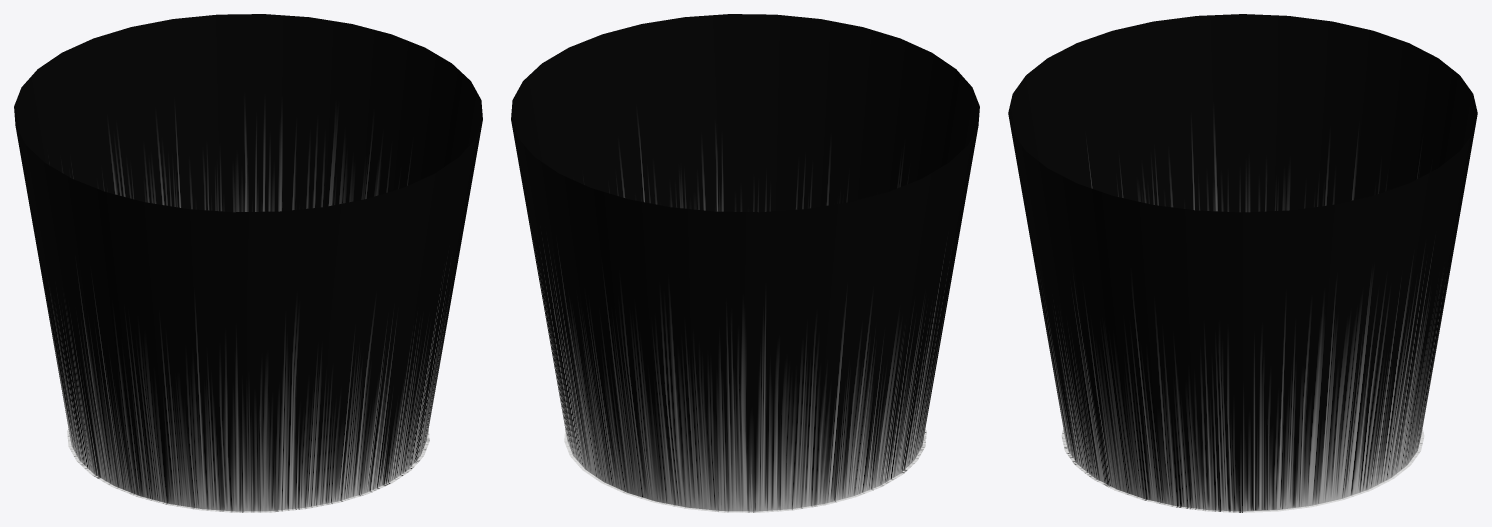
File: Wave.fbx
3 views of the same model, side by side, from view 1: azimuth 30°, elevation 25°; view 2: azimuth 150°, elevation 25°; view 3: azimuth 270°, elevation 25° (orthographic).
Parts seen in each view (by area): view 1: Cylinder; view 2: Cylinder; view 3: Cylinder.
Boxes of the visible parts, x1,y1,x2,y2 form: Cylinder: [14, 14, 482, 512]; Cylinder: [511, 14, 979, 512]; Cylinder: [1008, 14, 1477, 512].
Size of the model in its own units: 264 by 200 by 264.
1 material, 1 textured.
